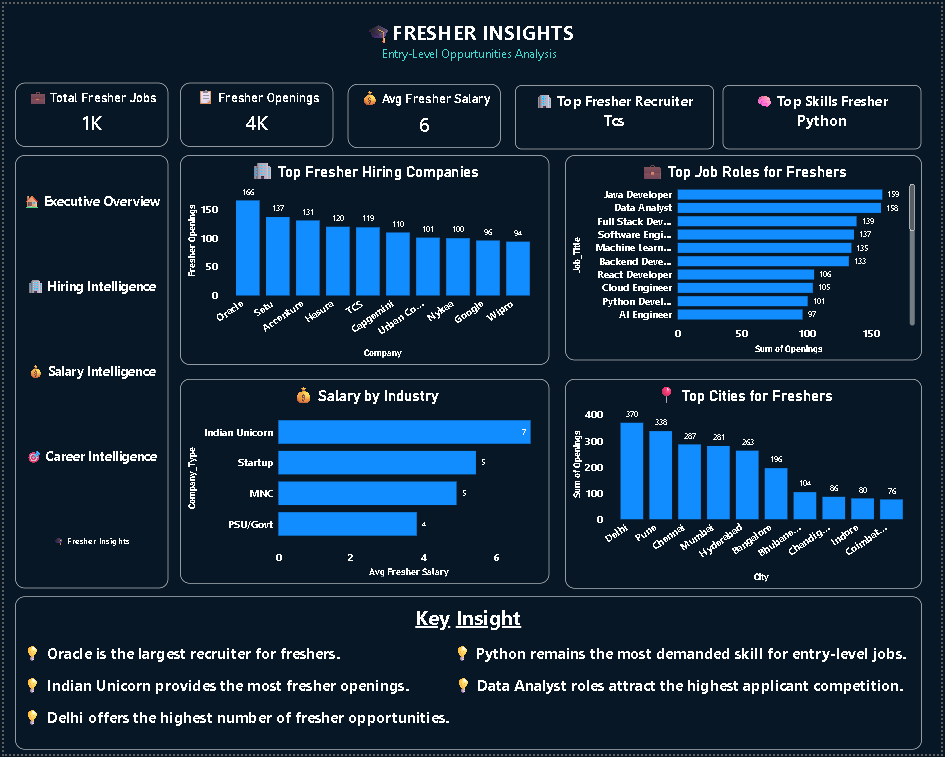

What the dashboard file says about the page in this screenshot:
{"tool":"powerbi","page":{"name":"🎓 Fresher Insights","canvas":[1500,1200],"ordinal":4},"visuals":[{"type":"cardVisual","title":"💼 Total Fresher Jobs","fields":{"Data":["india_job_market_2024_2026.Fresher Jobs"]},"box":[17.5,125,245,102.5],"z":0},{"type":"cardVisual","title":"💰 Avg Fresher Salary","fields":{"Data":["india_job_market_2024_2026.Avg Fresher Salary"]},"box":[550,127.5,245,102.5],"z":1},{"type":"cardVisual","title":"📋 Fresher Openings","fields":{"Data":["archive (3)top_10_skills.Fresher Openings"]},"box":[282.5,125,245,102.5],"z":2},{"type":"textbox","box":[817.5,130,317.5,102.5],"z":3},{"type":"textbox","box":[1150,130,317.5,102.5],"z":4},{"type":"columnChart","title":"🏢 Top Fresher Hiring Companies","fields":{"Category":["india_job_market_2024_2026.Company"],"Y":["archive (3)top_10_skills.Fresher Openings"]},"box":[282.5,242.5,590,335],"z":5},{"type":"pageNavigator","box":[17.5,242.5,245,692.5],"z":6},{"type":"textbox","box":[17.5,947.5,1450,245],"z":7},{"type":"textbox","box":[18,18,1452,98],"z":8},{"type":"barChart","title":"💰 Salary by Industry","fields":{"Category":["india_job_market_2024_2026.Company_Type"],"Y":["india_job_market_2024_2026.Avg Fresher Salary"]},"box":[282.5,600,590,327.5],"z":9},{"type":"columnChart","title":"📍 Top Cities for Freshers","fields":{"Category":["no_remote.City"],"Y":["Sum(no_remote.Openings)"]},"box":[897.5,600,570,335],"z":10},{"type":"barChart","title":"💼 Top Job Roles for Freshers","fields":{"Category":["no_remote.Job_Title"],"Y":["Sum(no_remote.Openings)"]},"box":[898,242,570,328],"z":11}]}

Visuals, with their boxes in screenshot pixels (x1, y1, x2, y2), scaled from the page's 1500x1200 canvas onto the 945x757 screenshot:
"💼 Total Fresher Jobs" cardVisual: [11, 79, 165, 144]
"💰 Avg Fresher Salary" cardVisual: [346, 80, 501, 145]
"📋 Fresher Openings" cardVisual: [178, 79, 332, 144]
textbox: [515, 82, 715, 147]
textbox: [724, 82, 925, 147]
"🏢 Top Fresher Hiring Companies" columnChart: [178, 153, 550, 364]
pageNavigator: [11, 153, 165, 590]
textbox: [11, 598, 925, 752]
textbox: [11, 11, 926, 73]
"💰 Salary by Industry" barChart: [178, 378, 550, 585]
"📍 Top Cities for Freshers" columnChart: [565, 378, 925, 590]
"💼 Top Job Roles for Freshers" barChart: [566, 153, 925, 360]
